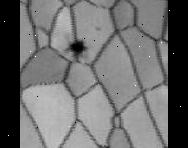good_void: (65, 37, 85, 58)
